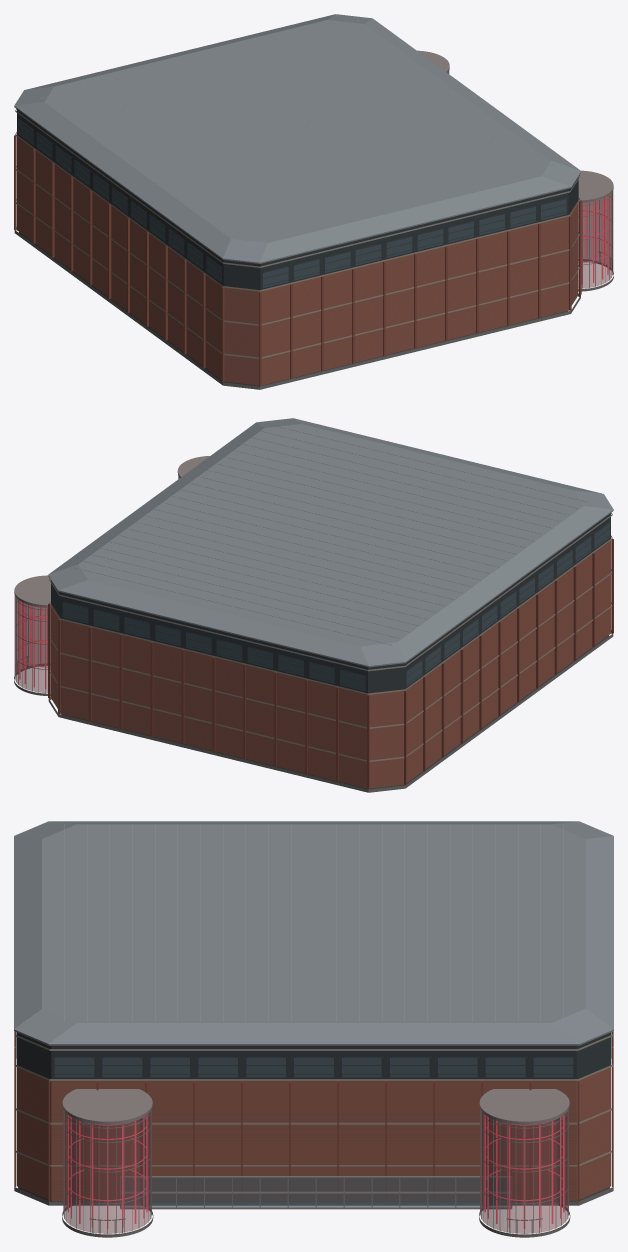
File: shell.glb
3 renders of one model, top to bottom at view 1: azimuth 30°, elevation 25°; view 2: azimuth 150°, elevation 25°; view 3: azimuth 270°, elevation 25°, orthographic. The views are drawn at different scales.
Visible parts, largest first — view 1: shell_roof_canopy_zinc, shell_bowl_mass_cladding, shell_bowl_mass_spandrel, shell_roof_canopy_seams, shell_bowl_mass_brick_pilasters, shell_bowl_mass_suite_glass_clerestory, shell_bowl_mass_facade_panels, shell_bowl_mass_brick_joints, shell_bowl_mass_suite_glass_drums, shell_bowl_mass_plinth, shell_bowl_mass_drums_caps, shell_bowl_mass_drums_red_lights (+2 smaller); view 2: shell_roof_canopy_zinc, shell_bowl_mass_cladding, shell_bowl_mass_spandrel, shell_bowl_mass_brick_pilasters, shell_roof_canopy_seams, shell_bowl_mass_suite_glass_clerestory, shell_bowl_mass_facade_panels, shell_bowl_mass_brick_joints, shell_bowl_mass_suite_glass_drums, shell_bowl_mass_plinth, shell_bowl_mass_drums_caps, shell_bowl_mass_drums_red_lights (+2 smaller); view 3: shell_roof_canopy_zinc, shell_bowl_mass_cladding, shell_bowl_mass_spandrel, shell_bowl_mass_suite_glass_drums, shell_bowl_mass_suite_glass_foyer, shell_bowl_mass_suite_glass_clerestory, shell_bowl_mass_drums_caps, shell_bowl_mass_drums_mullions, shell_bowl_mass_brick_joints, shell_bowl_mass_facade_panels, shell_bowl_mass_drums_red_lights, shell_roof_canopy_seams (+2 smaller).
Part boxes in pixels (<box>): shell_roof_canopy_zinc: <box>14,14,581,263</box>; shell_bowl_mass_cladding: <box>17,137,578,385</box>; shell_bowl_mass_spandrel: <box>17,109,578,290</box>; shell_roof_canopy_seams: <box>40,20,554,241</box>; shell_bowl_mass_brick_pilasters: <box>14,135,581,386</box>; shell_bowl_mass_suite_glass_clerestory: <box>18,119,566,287</box>; shell_bowl_mass_facade_panels: <box>15,109,580,358</box>; shell_bowl_mass_brick_joints: <box>17,142,578,383</box>; shell_bowl_mass_suite_glass_drums: <box>448,72,612,288</box>; shell_bowl_mass_plinth: <box>14,227,613,389</box>; shell_bowl_mass_drums_caps: <box>417,50,613,202</box>; shell_bowl_mass_drums_red_lights: <box>578,196,608,283</box>; shell_roof_canopy_zinc: <box>48,418,613,667</box>; shell_bowl_mass_cladding: <box>51,540,610,788</box>; shell_bowl_mass_spandrel: <box>51,513,610,693</box>; shell_bowl_mass_brick_pilasters: <box>48,539,613,789</box>; shell_roof_canopy_seams: <box>74,424,587,645</box>; shell_bowl_mass_suite_glass_clerestory: <box>62,523,609,690</box>; shell_bowl_mass_facade_panels: <box>49,512,612,761</box>; shell_bowl_mass_brick_joints: <box>61,549,610,786</box>; shell_bowl_mass_suite_glass_drums: <box>15,477,179,692</box>; shell_bowl_mass_plinth: <box>14,630,613,792</box>; shell_bowl_mass_drums_caps: <box>14,456,209,607</box>; shell_bowl_mass_drums_red_lights: <box>19,600,47,688</box>; shell_roof_canopy_zinc: <box>14,821,613,1045</box>; shell_bowl_mass_cladding: <box>16,1067,611,1200</box>; shell_bowl_mass_spandrel: <box>15,1032,612,1078</box>; shell_bowl_mass_suite_glass_drums: <box>63,1110,568,1233</box>; shell_bowl_mass_suite_glass_foyer: <box>121,1178,510,1207</box>; shell_bowl_mass_suite_glass_clerestory: <box>54,1058,573,1077</box>; shell_bowl_mass_drums_caps: <box>62,1089,569,1209</box>; shell_bowl_mass_drums_mullions: <box>63,1109,568,1233</box>; shell_bowl_mass_brick_joints: <box>17,1073,610,1198</box>; shell_bowl_mass_facade_panels: <box>15,1034,612,1166</box>; shell_bowl_mass_drums_red_lights: <box>67,1114,564,1228</box>; shell_roof_canopy_seams: <box>64,824,563,1022</box>.
Size of the model in its own units: 140 by 43.83 by 139.
